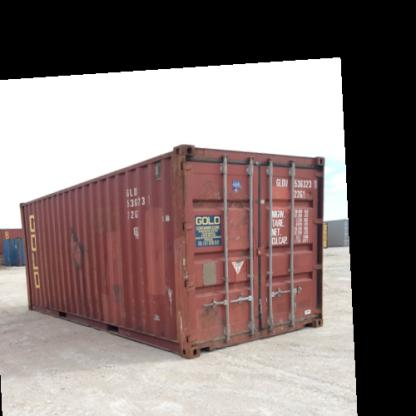Damage: (160, 277, 193, 349), (168, 154, 193, 225), (63, 226, 87, 277), (108, 278, 134, 316), (200, 299, 228, 332), (103, 211, 125, 249)
